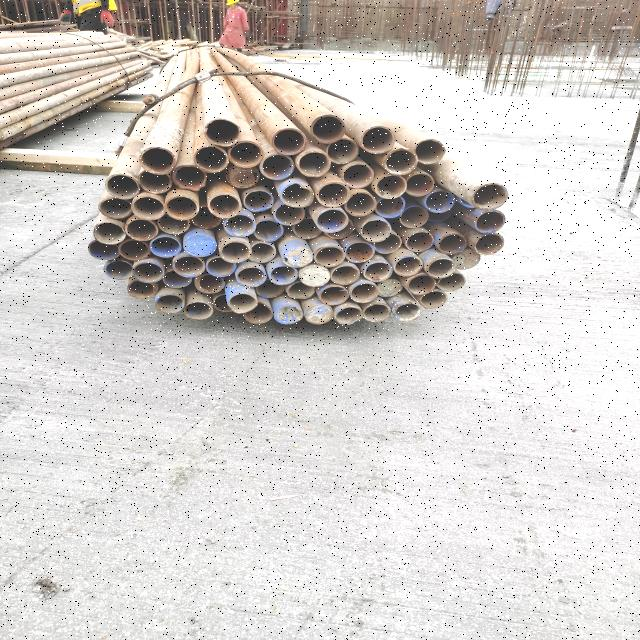pipe: (138, 146, 176, 174), (310, 114, 346, 143), (204, 118, 240, 146), (228, 140, 264, 168), (471, 183, 508, 210), (360, 125, 394, 154), (163, 195, 200, 221), (272, 128, 306, 156), (384, 148, 418, 176), (104, 173, 140, 199), (297, 150, 331, 177), (193, 146, 228, 172), (315, 182, 350, 208), (172, 164, 206, 190), (260, 154, 294, 180), (414, 138, 446, 165), (130, 196, 166, 220), (374, 173, 406, 200), (281, 182, 314, 208), (326, 138, 358, 164), (342, 162, 374, 188), (208, 194, 242, 218), (314, 208, 348, 232), (359, 219, 392, 243), (345, 191, 375, 217), (190, 205, 222, 229), (405, 172, 435, 197), (138, 171, 172, 193), (98, 197, 132, 219), (424, 190, 456, 213), (474, 210, 506, 233), (223, 214, 255, 237), (227, 166, 260, 188), (125, 219, 158, 241), (183, 234, 216, 256), (274, 203, 305, 226), (344, 242, 376, 264), (252, 220, 284, 242), (314, 245, 346, 267), (148, 236, 180, 258), (132, 261, 164, 283), (173, 256, 205, 278), (94, 222, 125, 244), (227, 292, 258, 314), (158, 214, 192, 234), (118, 240, 150, 261), (243, 190, 273, 212), (474, 233, 504, 255), (437, 233, 467, 255), (292, 217, 322, 239), (220, 241, 250, 263), (193, 274, 226, 294), (244, 302, 274, 324), (88, 240, 120, 260), (235, 267, 267, 287), (392, 302, 424, 322), (400, 206, 429, 228), (406, 274, 436, 295), (102, 260, 133, 280), (127, 279, 158, 299), (453, 248, 481, 270), (282, 246, 312, 266), (206, 257, 236, 277), (268, 265, 298, 285), (274, 304, 304, 324), (300, 266, 330, 286), (330, 266, 360, 286), (318, 286, 348, 306), (362, 262, 392, 282), (426, 258, 456, 278), (376, 198, 405, 218), (349, 282, 378, 302), (250, 242, 276, 264), (325, 220, 355, 239), (154, 294, 184, 313), (406, 232, 434, 252), (374, 234, 402, 254), (305, 304, 333, 324), (394, 256, 422, 276), (376, 278, 404, 298), (183, 302, 213, 320), (162, 270, 192, 288), (334, 306, 364, 324), (362, 304, 392, 322), (256, 280, 285, 298), (287, 282, 316, 300), (437, 274, 466, 292), (420, 291, 448, 309), (212, 294, 238, 312)
